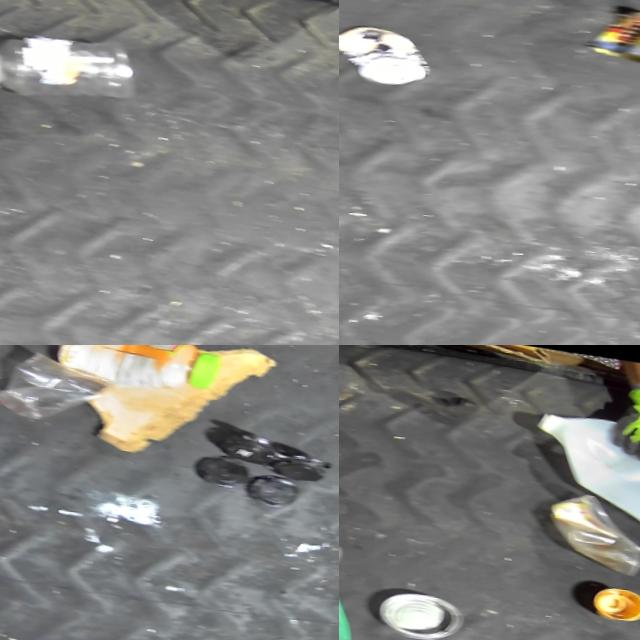can: (339, 16, 442, 88), (378, 578, 473, 637), (584, 0, 640, 62)
milk_jug: (524, 397, 640, 522)
plastic_bottle: (0, 12, 146, 106)
